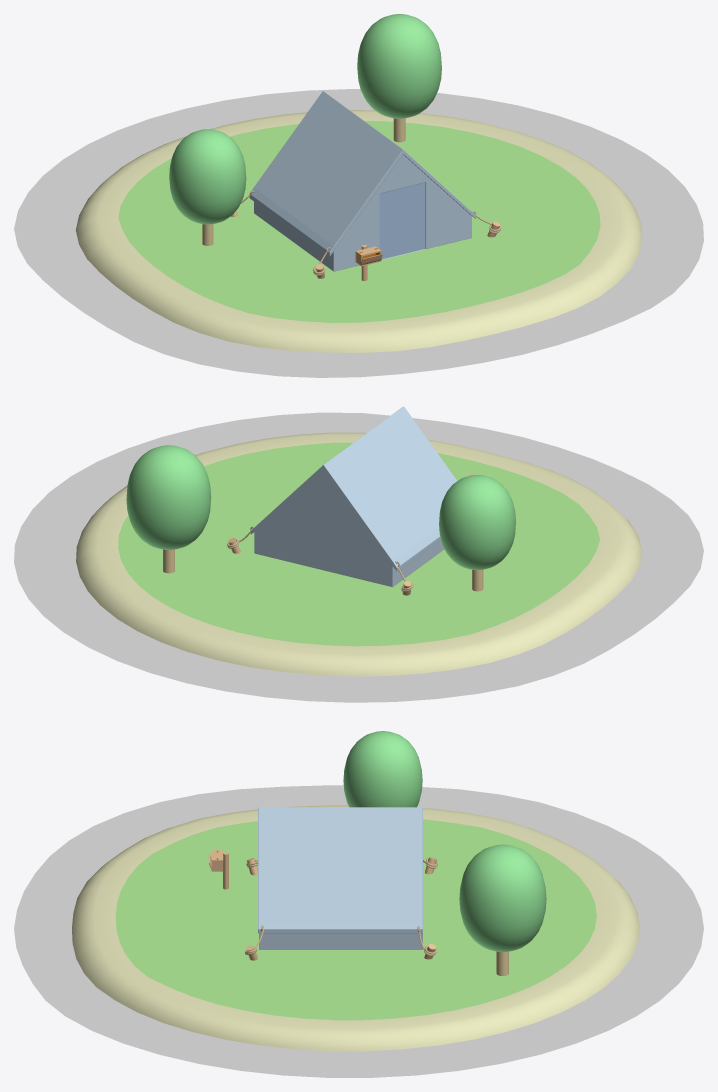
The model's file is Island03.glb.
The picture shows the model from 3 angles, top to bottom: view 1: azimuth 30°, elevation 25°; view 2: azimuth 150°, elevation 25°; view 3: azimuth 270°, elevation 25°; orthographic projection. The views are drawn at different scales.
Parts seen in each view (by area): view 1: Land, OuterSea, Tent, Tree; view 2: Land, OuterSea, Tent, Tree; view 3: Land, OuterSea, Tent, Tree.
Part boxes in pixels (x1,y1,x2,y2): Land: (75, 110, 642, 352); OuterSea: (14, 89, 703, 377); Tent: (249, 91, 475, 271); Tree: (169, 14, 441, 245); Land: (76, 432, 642, 676); OuterSea: (14, 412, 703, 702); Tent: (251, 406, 456, 587); Tree: (126, 445, 515, 591); Land: (72, 805, 639, 1051); OuterSea: (14, 785, 703, 1077); Tent: (258, 807, 422, 949); Tree: (343, 731, 546, 975).
Bounding box in the file's own units: 4.22 × 0.9644 × 4.21.
